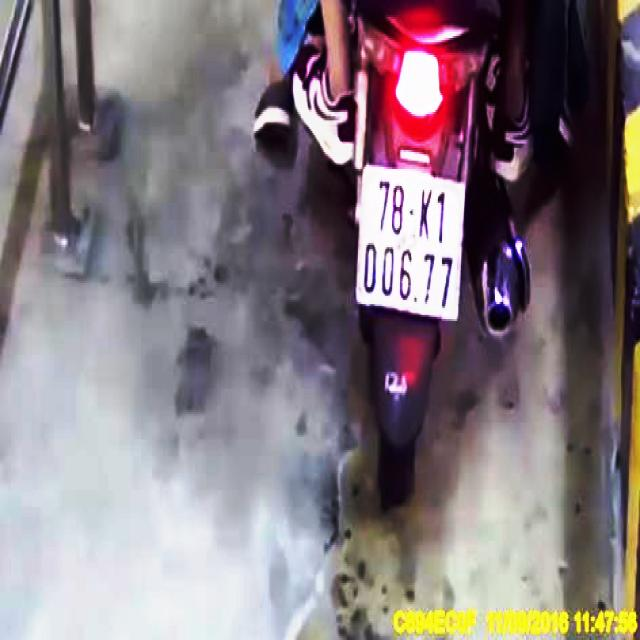license_plate: (359, 169, 468, 318)
